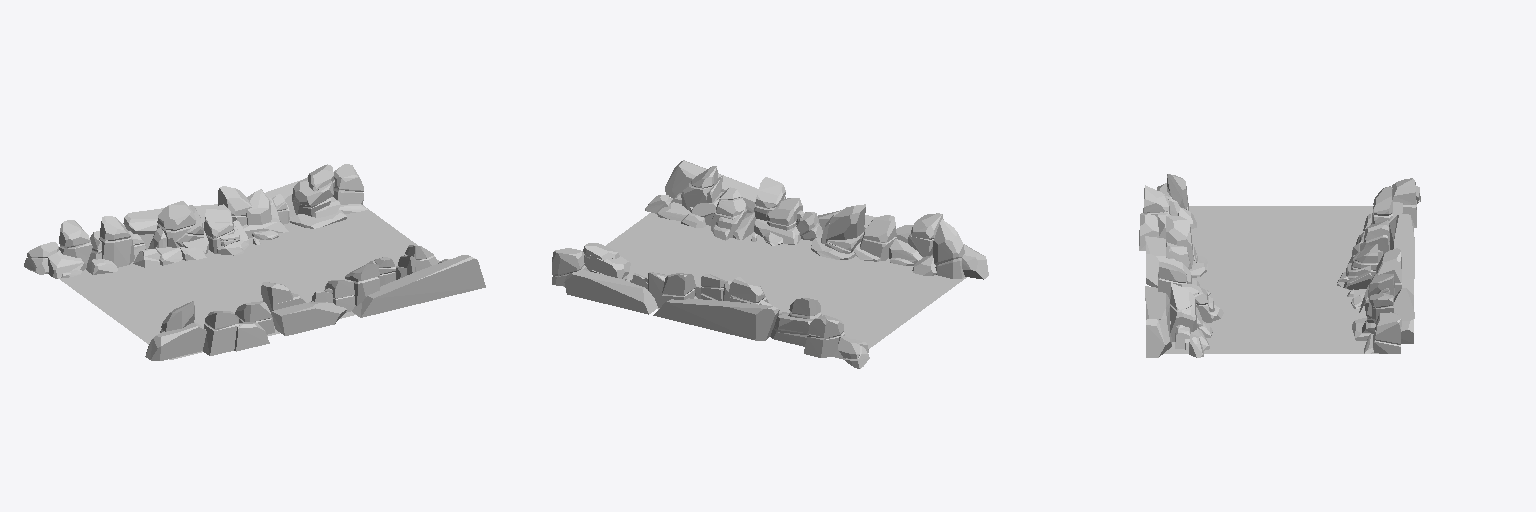
Rendered from RoadTile_Basic.obj.
3 views of the same model, side by side, from view 1: azimuth 30°, elevation 25°; view 2: azimuth 150°, elevation 25°; view 3: azimuth 270°, elevation 25° (orthographic).
Visible parts, largest first — view 1: Ground.002_Plane.002, Cube.019, Cube.018, Cube.008, Cube.040, Cube.003, Cube.047, Cube.055, Cube.037, Cube.053, Cube.050, Cube.065 (+11 smaller); view 2: Ground.002_Plane.002, Cube.053, Cube.052, Cube.006, Cube.019, Cube.037, Cube.016, Cube.022, Cube.042, Cube.003, Cube.050, Cube.013 (+11 smaller); view 3: Ground.002_Plane.002, Cube.019, Cube.053, Cube.013, Cube.050, Cube.052, Cube.018, Cube.022, Cube.037, Cube.060, Cube.026, Cube.040 (+3 smaller).
Boxes of the visible parts, <box> form: Ground.002_Plane.002: <box>60,205,439,359</box>; Cube.019: <box>352,255,485,317</box>; Cube.018: <box>271,302,346,335</box>; Cube.008: <box>145,322,206,360</box>; Cube.040: <box>99,216,134,267</box>; Cube.003: <box>203,311,239,355</box>; Cube.047: <box>157,201,196,247</box>; Cube.055: <box>292,177,333,216</box>; Cube.037: <box>59,220,92,264</box>; Cube.053: <box>123,204,217,249</box>; Cube.050: <box>333,164,363,204</box>; Cube.065: <box>204,204,234,253</box>; Ground.002_Plane.002: <box>563,198,966,348</box>; Cube.053: <box>653,298,779,340</box>; Cube.052: <box>564,270,657,314</box>; Cube.006: <box>933,219,964,278</box>; Cube.019: <box>665,160,758,212</box>; Cube.037: <box>804,315,844,357</box>; Cube.016: <box>860,215,896,260</box>; Cube.022: <box>826,204,865,242</box>; Cube.042: <box>770,314,813,346</box>; Cube.003: <box>908,213,943,256</box>; Cube.050: <box>552,248,588,286</box>; Cube.013: <box>681,166,717,210</box>; Ground.002_Plane.002: <box>1164,206,1378,353</box>; Cube.019: <box>1145,286,1171,357</box>; Cube.053: <box>1389,214,1414,294</box>; Cube.013: <box>1170,283,1196,341</box>; Cube.050: <box>1373,312,1401,353</box>; Cube.052: <box>1394,288,1414,343</box>; Cube.018: <box>1145,236,1166,287</box>; Cube.022: <box>1166,216,1193,266</box>; Cube.037: <box>1392,178,1416,227</box>; Cube.060: <box>1376,248,1401,295</box>; Cube.026: <box>1158,262,1187,298</box>; Cube.040: <box>1371,186,1392,224</box>.
Size of the model in its own units: 155 by 22.24 by 116.